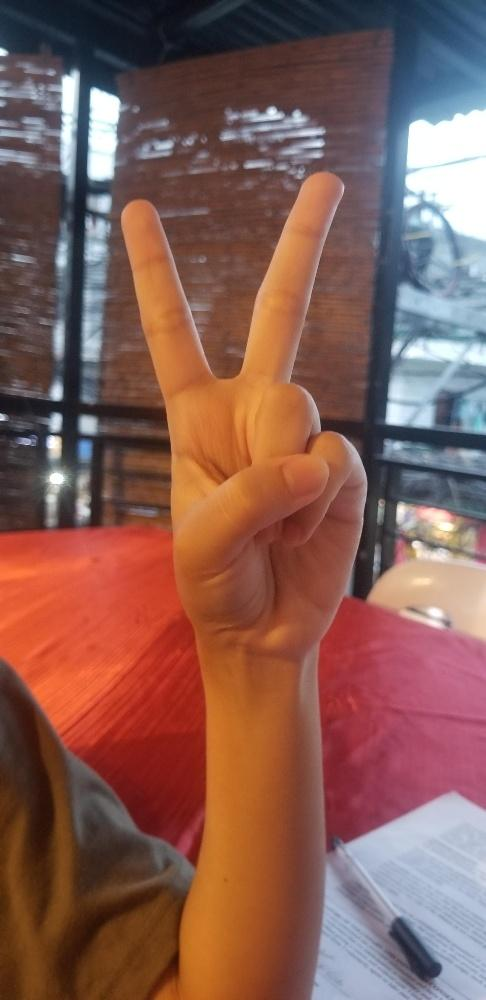v: (119, 170, 368, 646)
